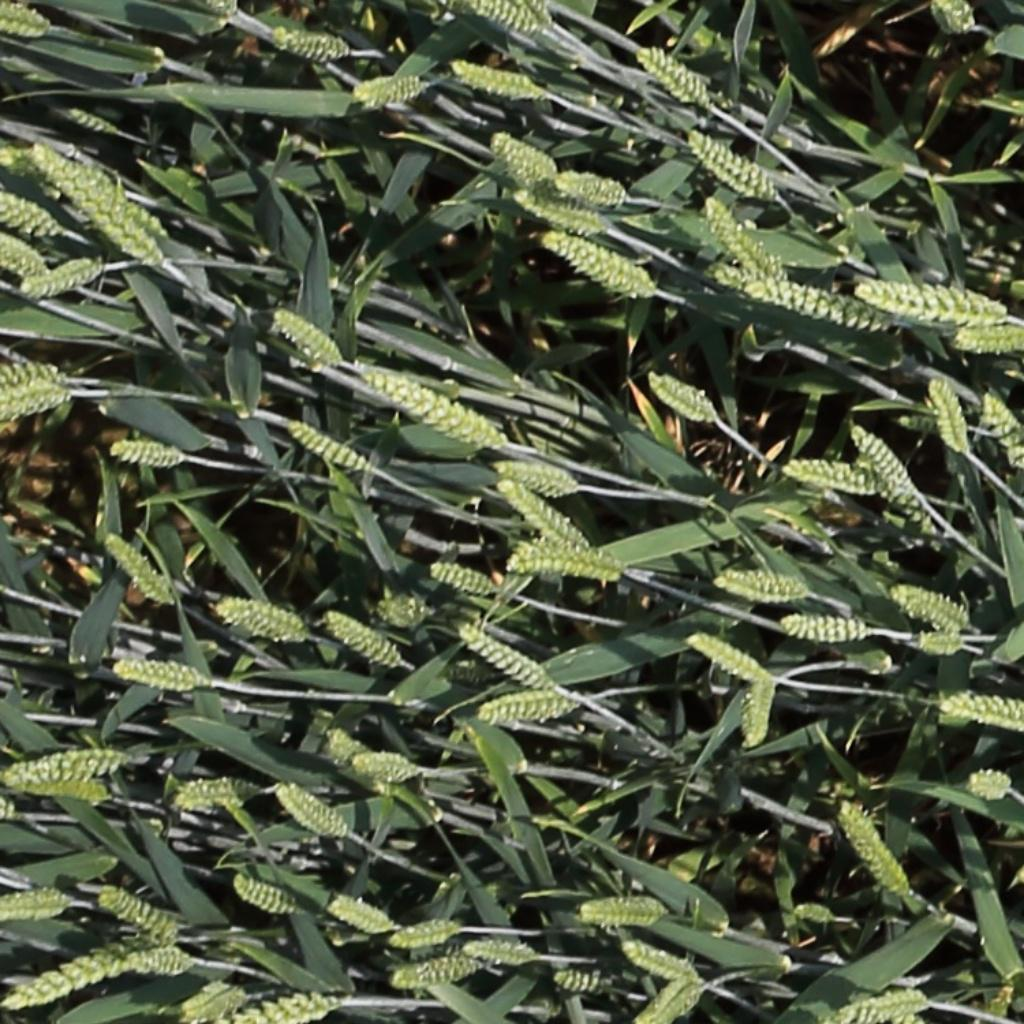0-0: (36, 148, 158, 263), (356, 363, 501, 449), (719, 270, 884, 330), (0, 944, 134, 1009), (834, 798, 913, 903), (699, 192, 786, 285), (30, 141, 126, 215), (492, 477, 585, 551), (542, 230, 649, 292), (456, 623, 552, 690), (685, 128, 774, 199), (854, 281, 1004, 323), (858, 457, 937, 528), (96, 531, 172, 604), (845, 419, 917, 495), (326, 727, 403, 797), (283, 419, 368, 475), (320, 610, 398, 669), (446, 58, 550, 102), (634, 45, 708, 106), (94, 890, 173, 946), (510, 187, 604, 233), (2, 749, 120, 785), (268, 307, 341, 364), (925, 371, 972, 458), (685, 633, 765, 684), (273, 785, 345, 841), (1, 144, 68, 204), (211, 598, 303, 640), (232, 988, 338, 1024), (645, 371, 716, 424), (979, 390, 1024, 473), (779, 458, 880, 494), (888, 585, 970, 628), (506, 550, 622, 580), (487, 129, 557, 176), (937, 693, 1024, 730), (827, 992, 928, 1022), (619, 942, 696, 981), (740, 671, 774, 756), (490, 461, 577, 494), (229, 877, 297, 918), (113, 659, 202, 690), (23, 256, 99, 292), (169, 775, 249, 808), (1, 187, 57, 234), (714, 572, 806, 600), (643, 977, 700, 1022), (577, 895, 664, 924), (389, 958, 476, 987), (779, 616, 866, 645), (0, 884, 72, 918), (126, 943, 198, 976), (550, 170, 628, 199), (425, 561, 495, 593), (177, 984, 241, 1019), (103, 439, 184, 466), (323, 901, 391, 933), (266, 30, 346, 57), (1, 229, 46, 275), (471, 0, 537, 31), (476, 699, 572, 720), (349, 752, 420, 779), (15, 782, 106, 802), (957, 767, 1013, 799), (350, 76, 421, 101), (0, 387, 68, 413), (0, 1, 50, 35), (954, 324, 1024, 348), (385, 924, 457, 947), (457, 943, 536, 963), (0, 363, 66, 386), (65, 103, 116, 132), (932, 1, 976, 34), (374, 600, 425, 622), (548, 972, 613, 989), (517, 0, 554, 28)
